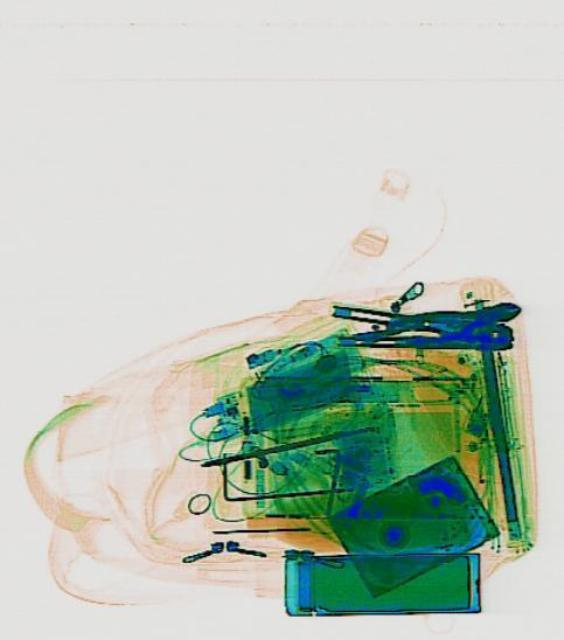Pliers: (349, 284, 522, 366), (326, 302, 511, 356)
